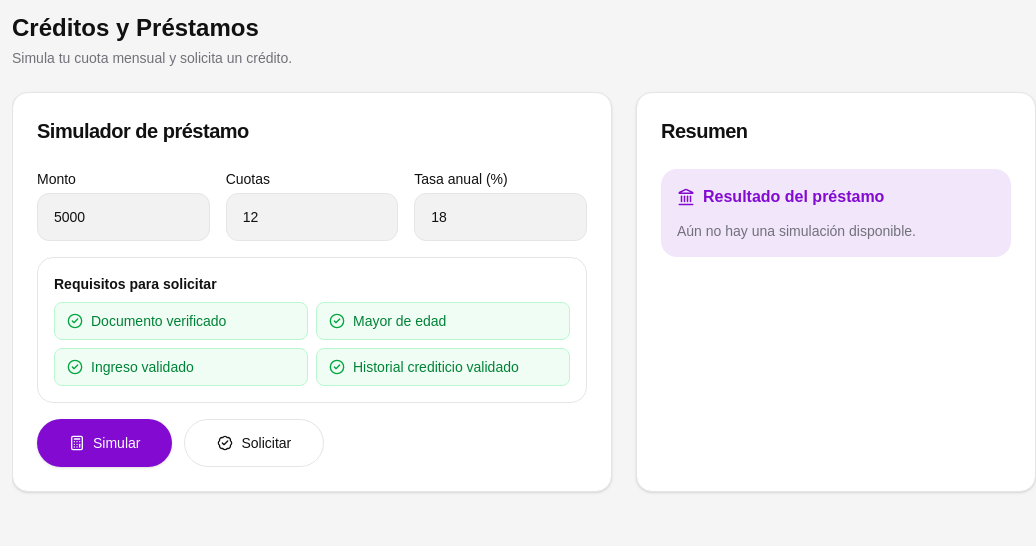
it: LoansClient › should show creation error from the server
Click the button "Solicitar": (254, 443) top-left (184, 419), bottom-right (324, 467)
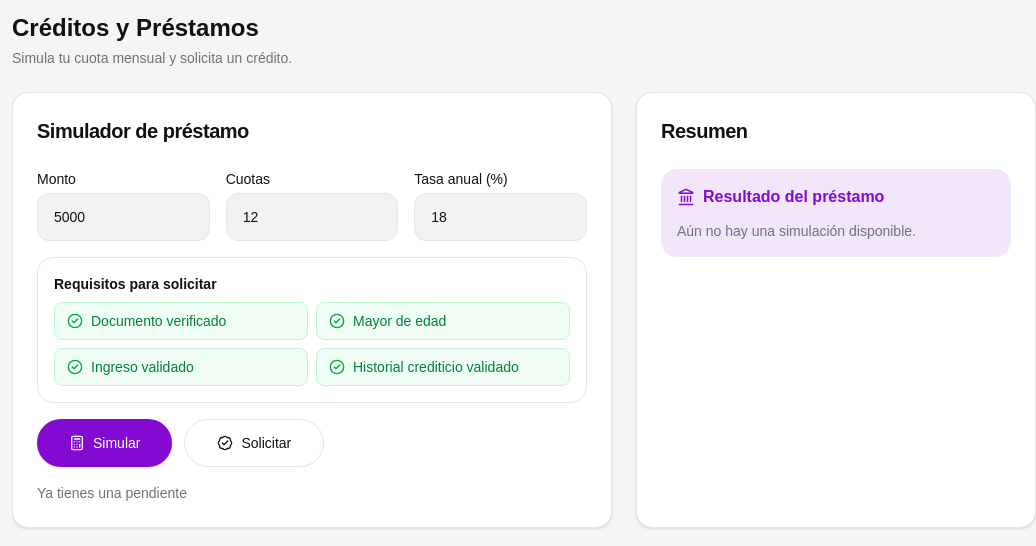
expect the text "Ya tienes una pendiente" is shown: met, box top-left (37, 485), bottom-right (187, 501)
